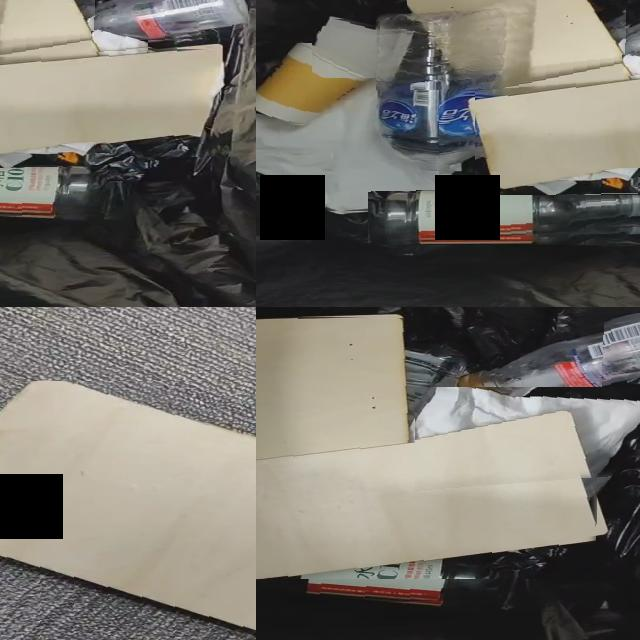bottle: (376, 14, 507, 194), (459, 313, 640, 402), (368, 195, 640, 244), (256, 550, 505, 603), (80, 0, 248, 41), (0, 165, 107, 216)
carton: (256, 317, 598, 579), (0, 381, 256, 633), (0, 48, 222, 154), (408, 0, 626, 90), (475, 80, 640, 186), (0, 0, 95, 56)
dixie_cup: (256, 43, 376, 125)
paper: (256, 90, 439, 212), (415, 387, 640, 481), (312, 18, 378, 78), (534, 168, 638, 196), (0, 142, 95, 168), (92, 31, 148, 52), (623, 55, 640, 76)
